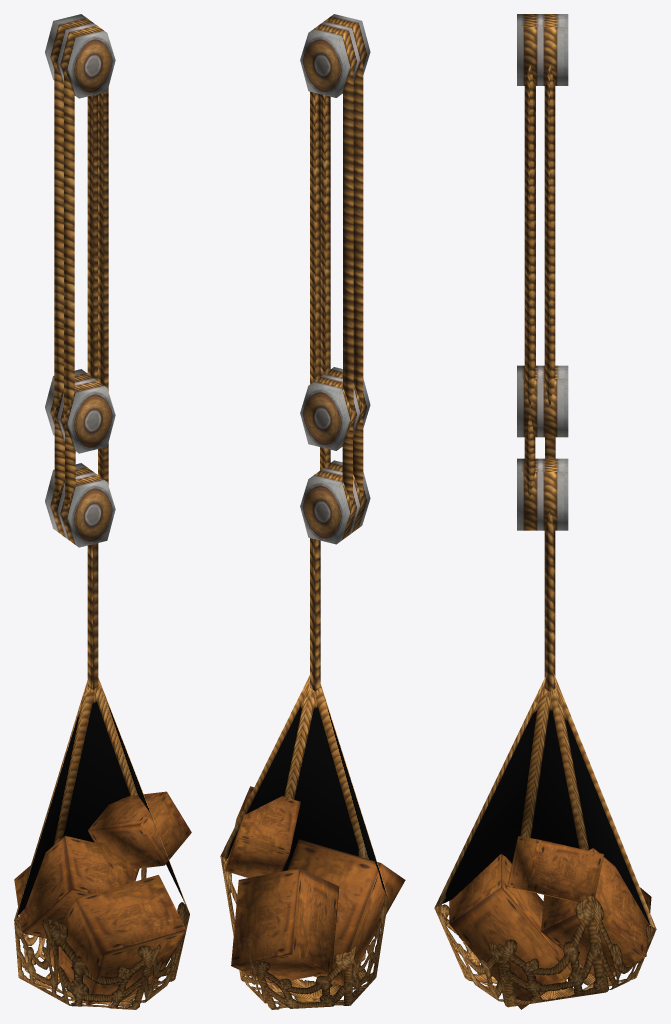
Rendered from deadminecargonethang.obj.
The picture shows the model from 3 angles, left to right: view 1: azimuth 30°, elevation 25°; view 2: azimuth 150°, elevation 25°; view 3: azimuth 270°, elevation 25°; orthographic projection.
Parts seen in each view (by area): view 1: Geoset0, Geoset1; view 2: Geoset0, Geoset1; view 3: Geoset0, Geoset1.
Boxes of the visible parts, bbox=[...] form: Geoset0: bbox=[14, 14, 191, 1009]; Geoset1: bbox=[14, 677, 189, 919]; Geoset0: bbox=[220, 14, 405, 1009]; Geoset1: bbox=[220, 672, 387, 896]; Geoset0: bbox=[434, 14, 656, 1009]; Geoset1: bbox=[434, 673, 656, 928].
Bounding box in the file's own units: 2.34 × 14.75 × 3.06.
Materials: 2 (2 with a texture image).
